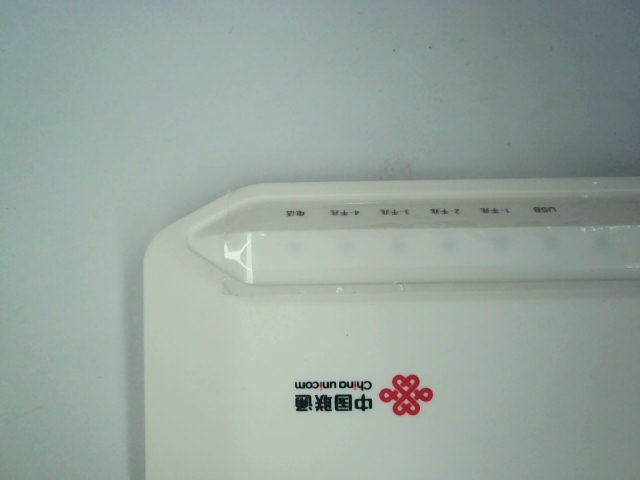AD_ChinaUnicom: (286, 362, 445, 431)
